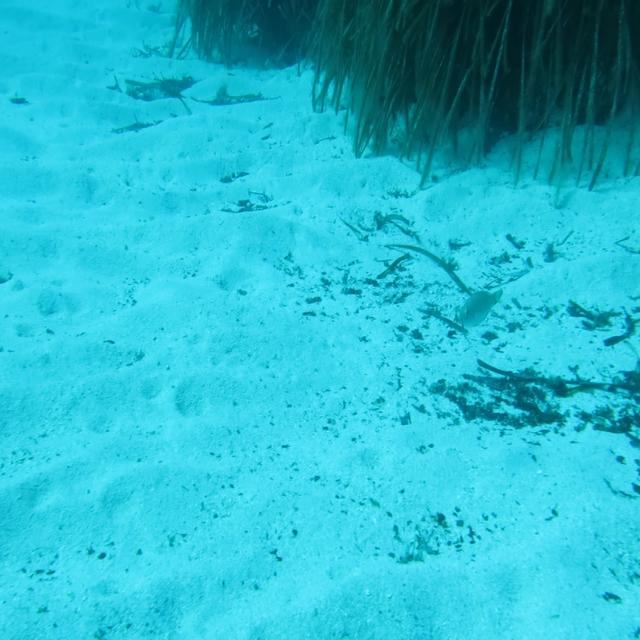AM: (455, 285, 505, 332)
vegetation: (179, 0, 640, 76), (307, 69, 640, 171), (408, 378, 640, 424), (454, 313, 464, 338)
